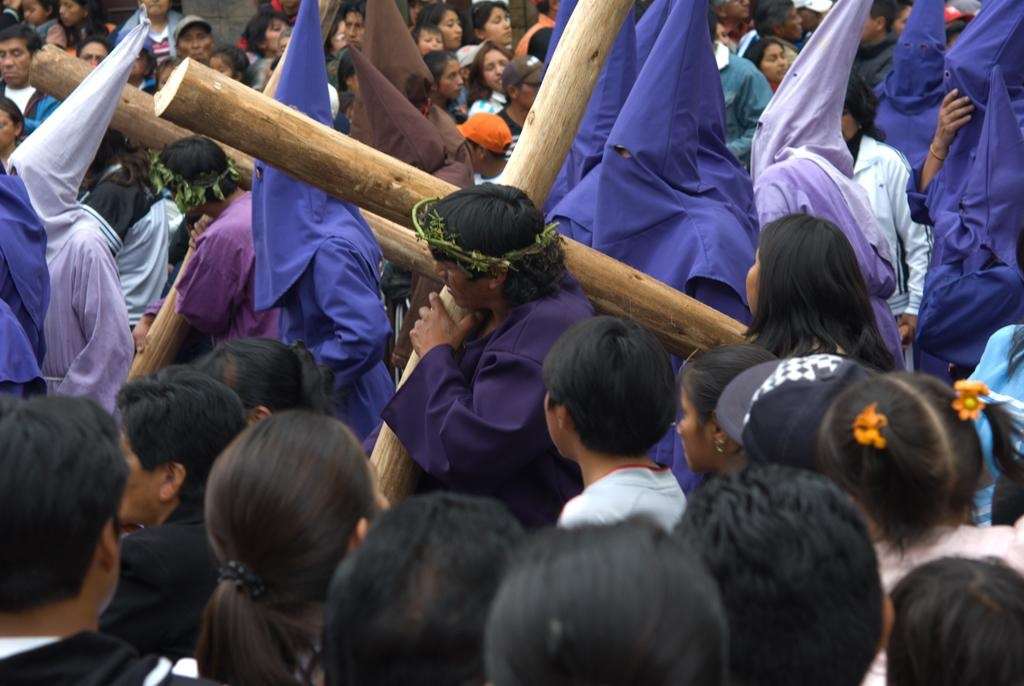human_face: (106, 414, 180, 522), (427, 239, 497, 309), (680, 386, 732, 470), (482, 52, 514, 92), (481, 8, 513, 42), (517, 77, 549, 111), (178, 32, 212, 64), (758, 44, 788, 80), (6, 38, 30, 82), (437, 62, 463, 98), (848, 6, 876, 38), (702, 25, 730, 57), (454, 134, 480, 168), (436, 13, 462, 46), (79, 48, 107, 78), (329, 26, 355, 58), (776, 9, 802, 39), (263, 19, 289, 49), (208, 54, 230, 86), (344, 14, 364, 48), (408, 1, 438, 23), (122, 48, 146, 74), (0, 109, 17, 145), (418, 31, 442, 56), (58, 2, 82, 24), (22, 2, 44, 22), (722, 4, 748, 18), (142, 2, 168, 16)
